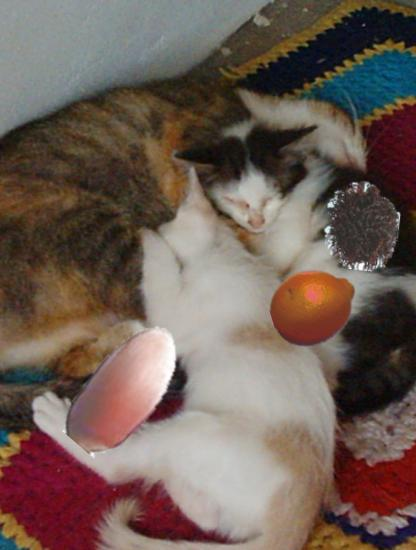Hazelnut: (53, 315, 201, 463)
Rambutan: (316, 181, 405, 270)
Tangelo: (270, 263, 359, 352)
